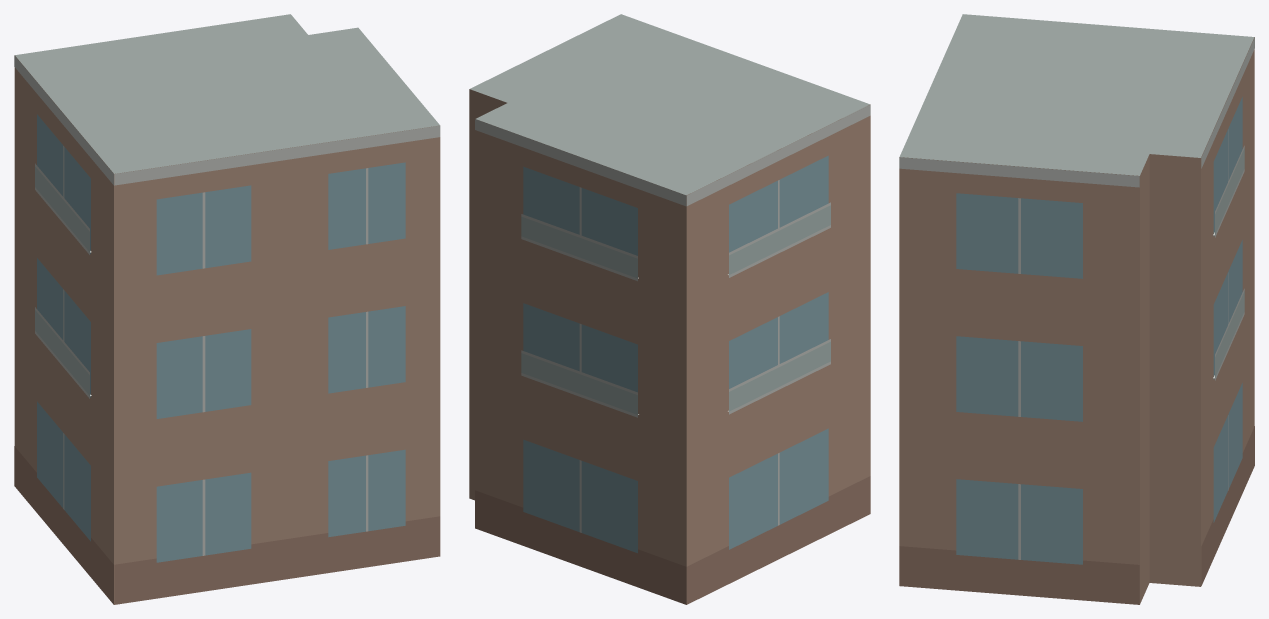
File: survey-upis-32512884.glb
The picture shows the model from 3 angles, left to right: view 1: azimuth 30°, elevation 25°; view 2: azimuth 150°, elevation 25°; view 3: azimuth 270°, elevation 25°; orthographic projection. The views are drawn at different scales.
Parts seen in each view (by area): view 1: survey-upis-32512884.tmp; view 2: survey-upis-32512884.tmp; view 3: survey-upis-32512884.tmp.
Part boxes in pixels (left/top/right/bottom): survey-upis-32512884.tmp: left=14, top=14, right=440, bottom=604; survey-upis-32512884.tmp: left=469, top=14, right=870, bottom=604; survey-upis-32512884.tmp: left=899, top=14, right=1254, bottom=604.
Bounding box in the file's own units: 7.29 × 9 × 6.76.
